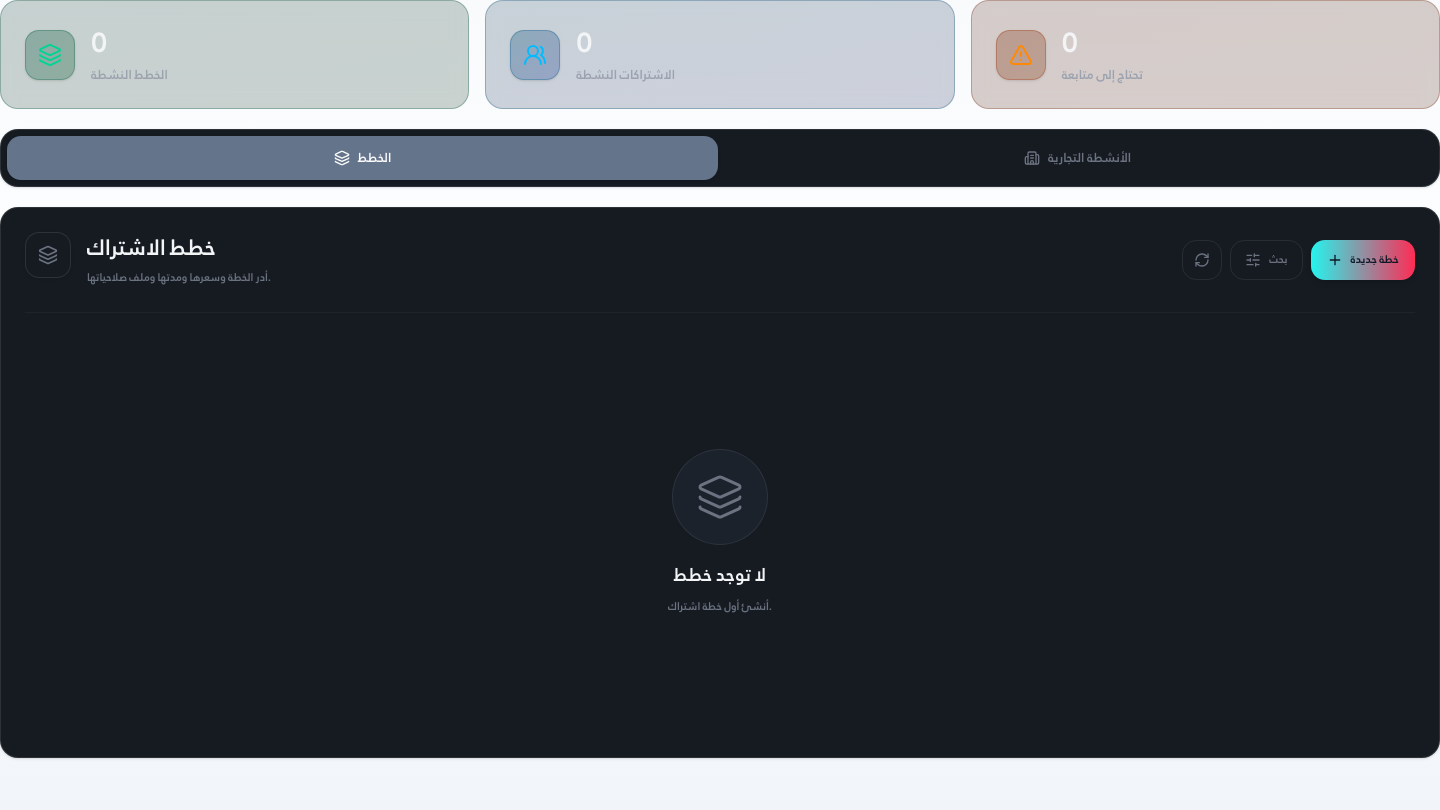
BillingPage Arabic › localizes plan and business subscription views
This screenshot has width=1440, height=810.
Expected: the text "الخطط النشطة" is shown, [91,64,168,86]
Expected: the heading "خطط الاشتراك" is shown, [87,232,216,264]
What coordinates should you click on to do the following:
click the tab "الأنشطة التجارية"
I would click on:
 (1078, 158)
Its box is [722,136,1433,180].
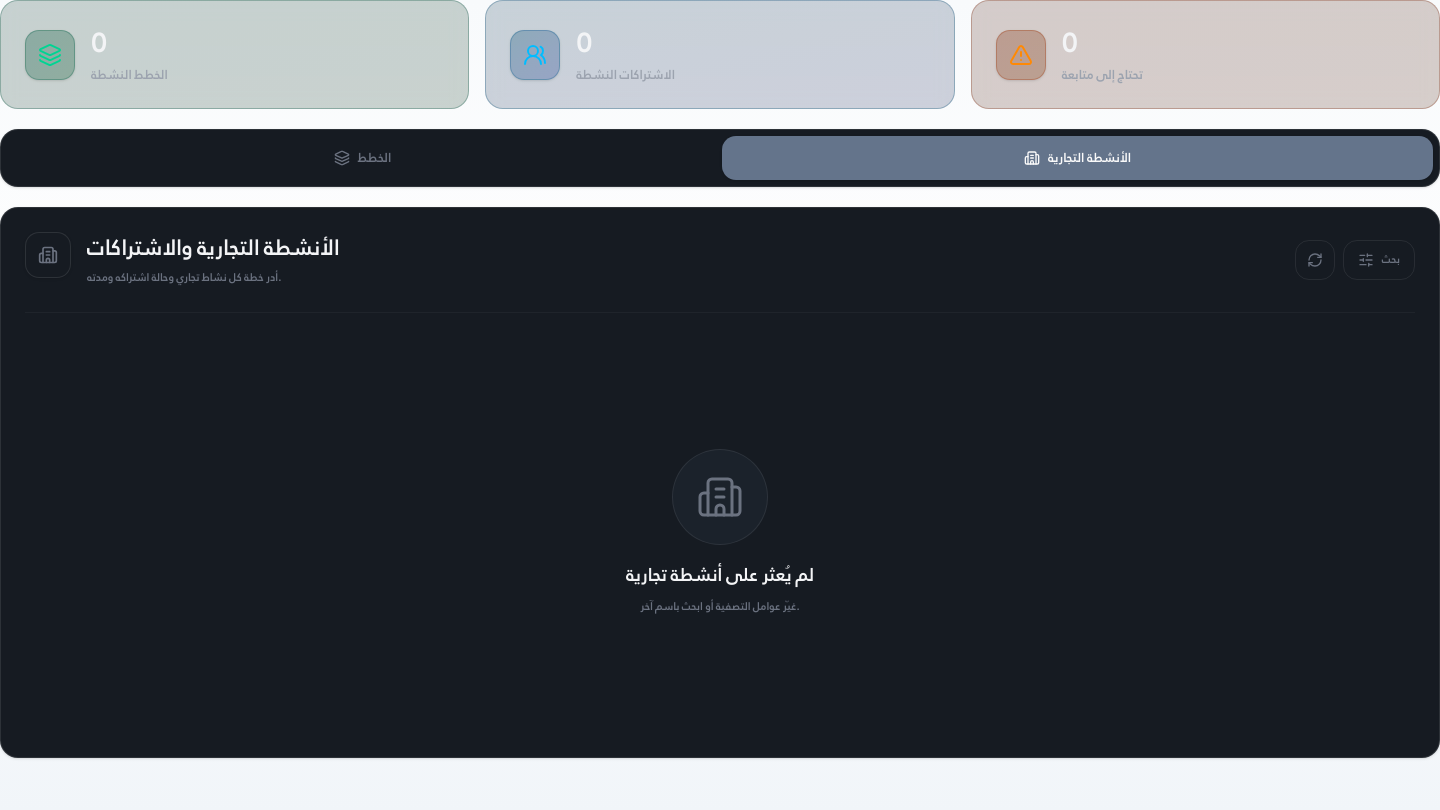
Now the heading "الأنشطة التجارية والاشتراكات" is shown, box [87,232,340,264]
Now the heading "لم يُعثر على أنشطة تجارية" is shown, box [626,560,814,588]
